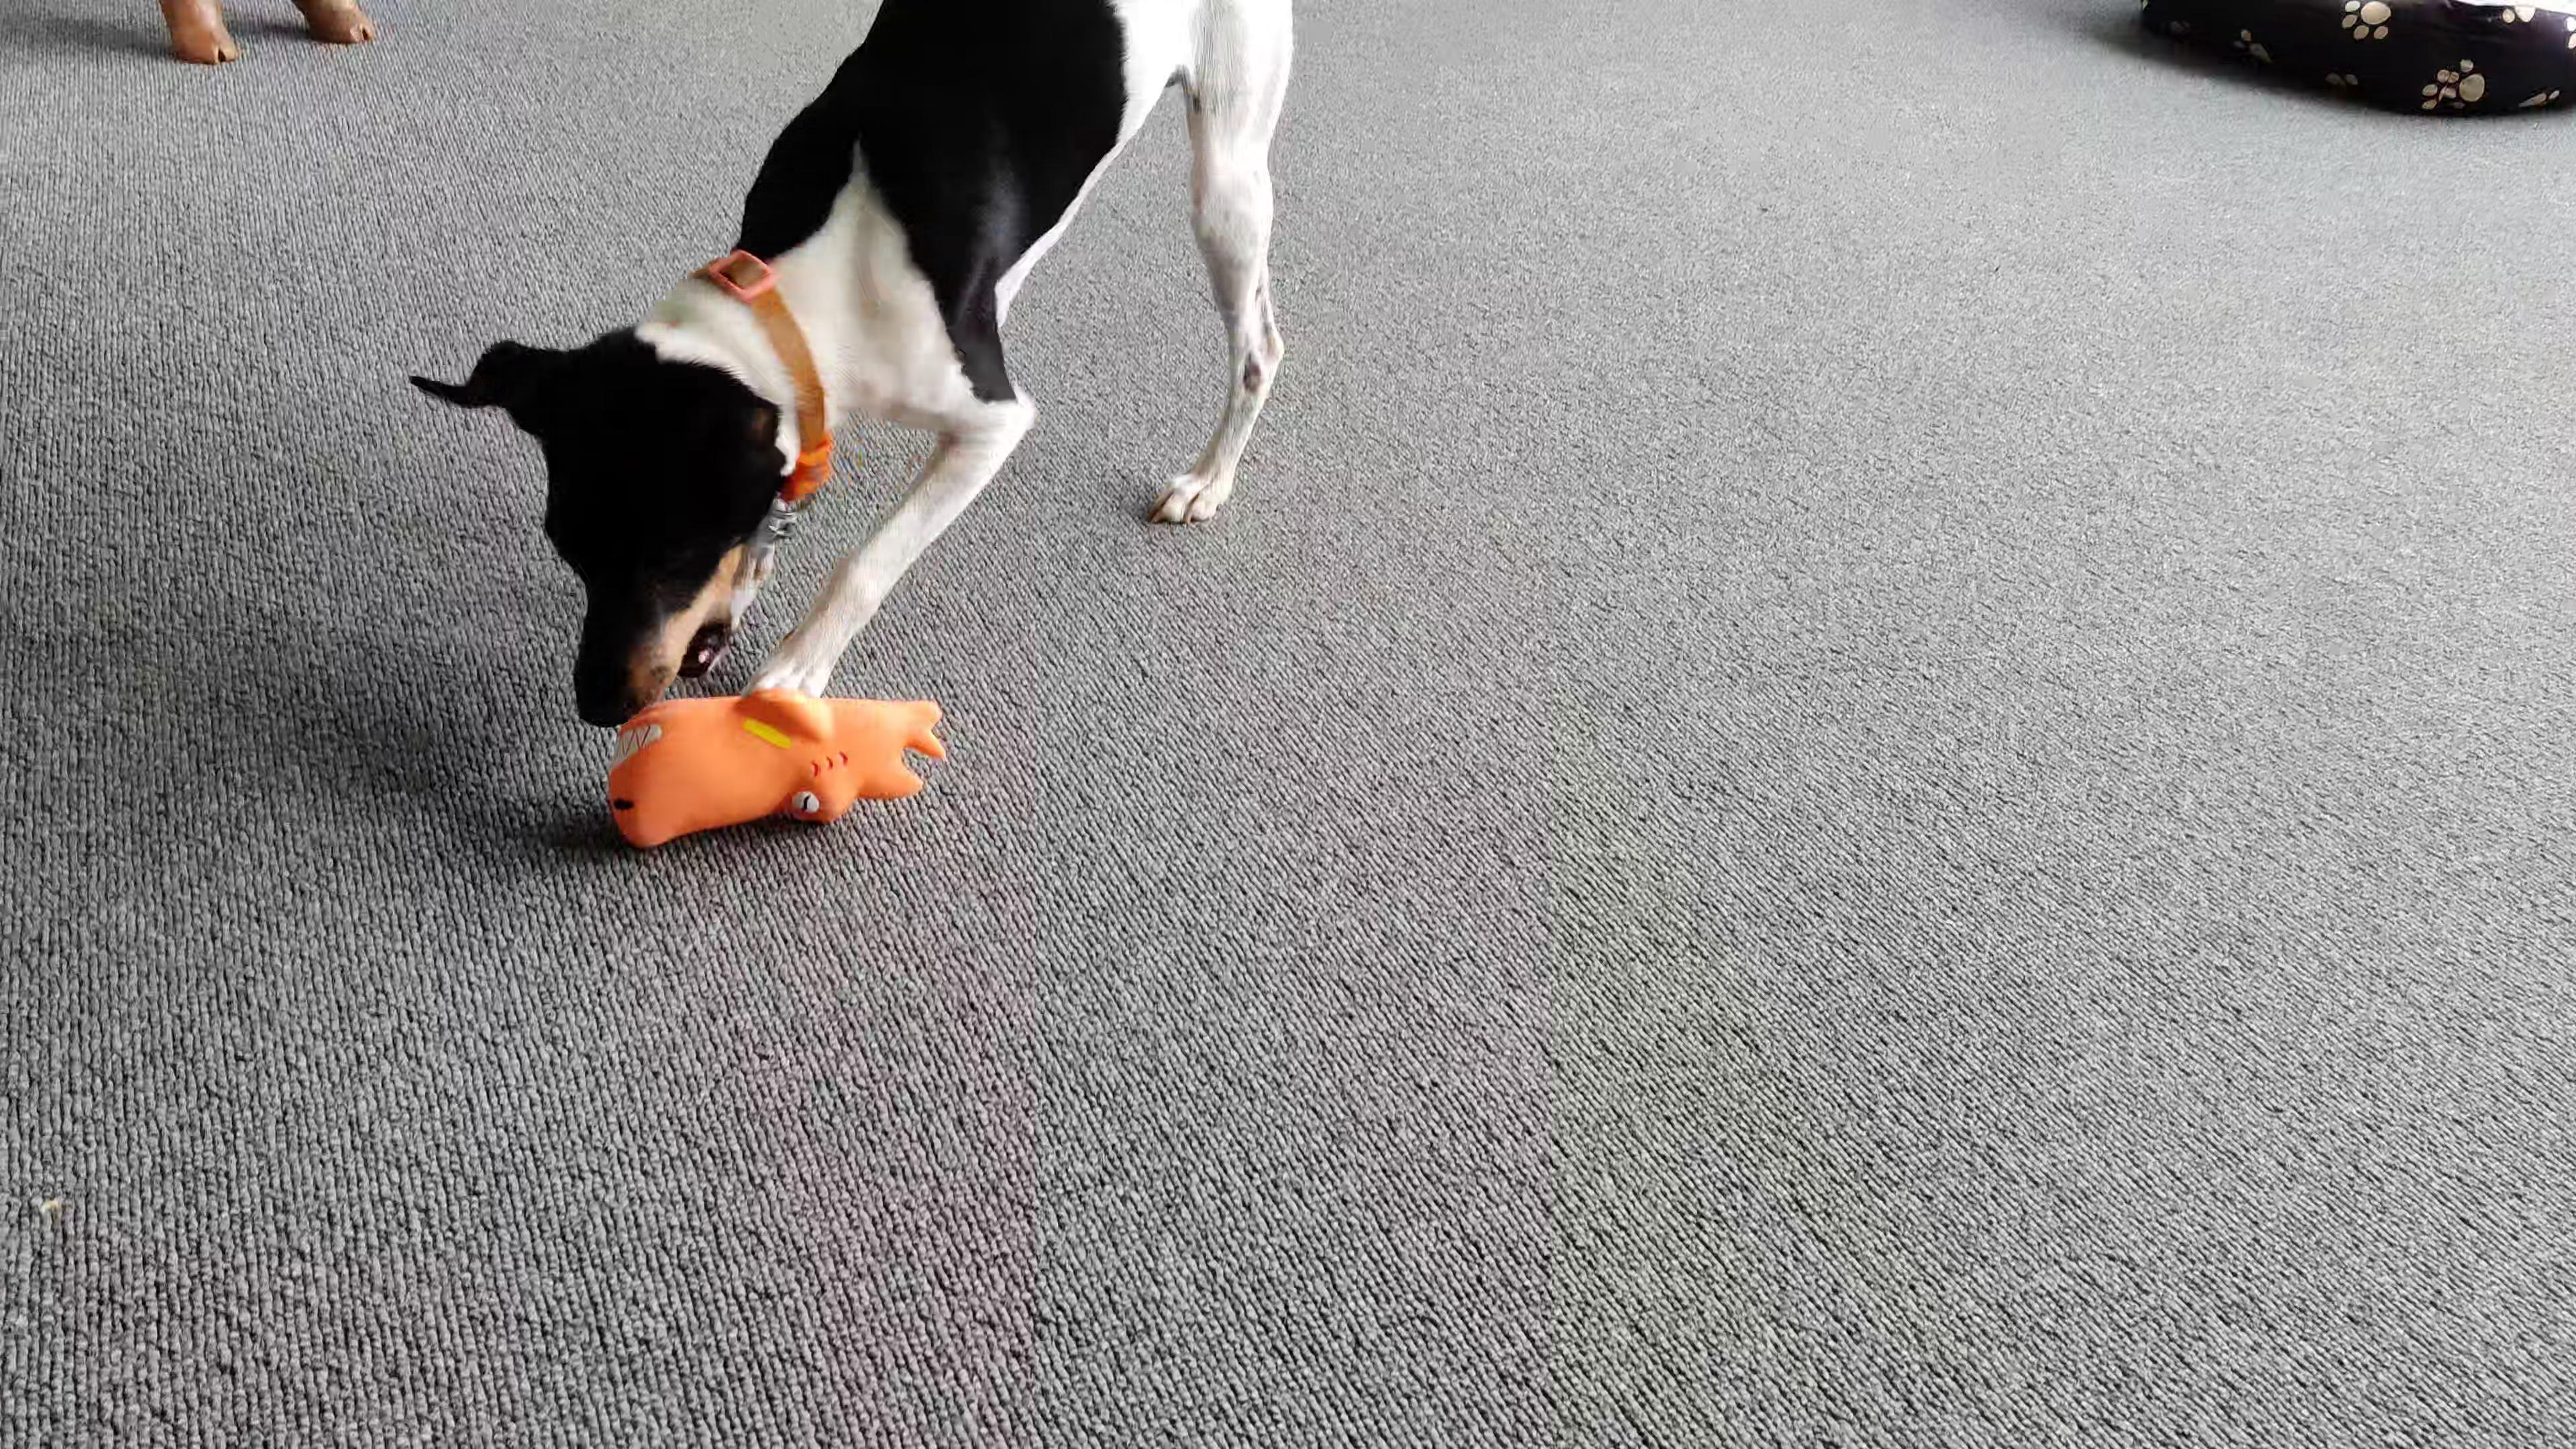Dog: (403, 0, 1315, 725)
